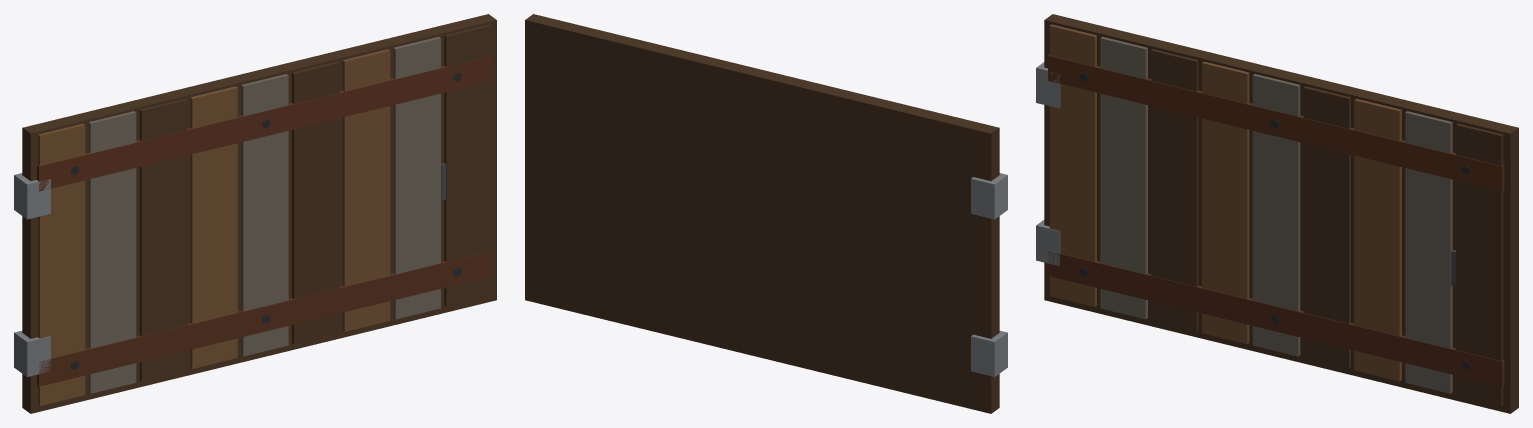
File: piece_gate.fbx
3 views of the same model, side by side, from view 1: azimuth 30°, elevation 25°; view 2: azimuth 150°, elevation 25°; view 3: azimuth 330°, elevation 25° (orthographic).
Visible parts, largest first — view 1: piece_gate; view 2: piece_gate; view 3: piece_gate.
Part boxes in pixels (x1,y1,x2,y2): piece_gate: [14, 14, 496, 413]; piece_gate: [525, 14, 1007, 413]; piece_gate: [1036, 14, 1518, 413].
Bounding box in the file's own units: 1.98 × 1.12 × 0.0975.
